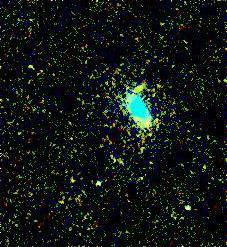star: (124, 75, 154, 105)
